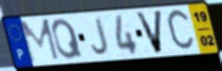4: (115, 14, 140, 56)
C: (165, 7, 197, 54)
J: (90, 16, 110, 57)
M: (19, 18, 61, 65)
Q: (51, 17, 85, 61)
V: (134, 10, 164, 56)
